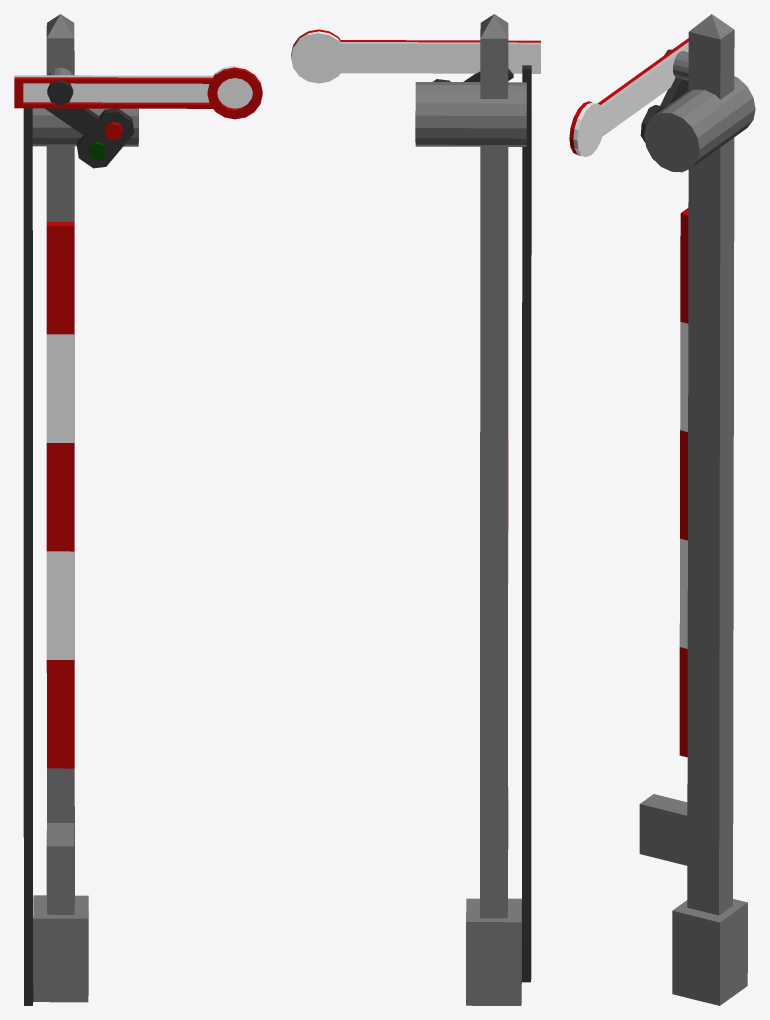
File: GMLID_2108434_31807_876.dae
3 renders of one model, left to right at view 1: azimuth 30°, elevation 25°; view 2: azimuth 210°, elevation 25°; view 3: azimuth 270°, elevation 25°, orthographic.
Size of the model in its own units: 2.86 by 2.43 by 14.04.
